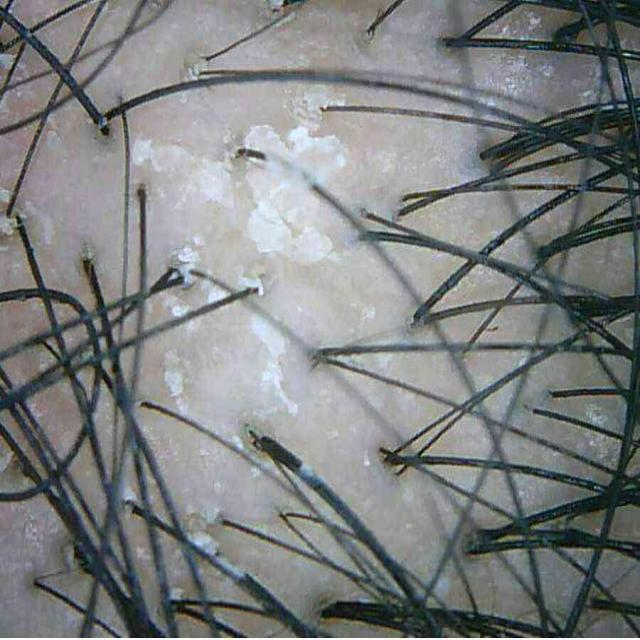d: (246, 164, 334, 264), (245, 125, 348, 183), (251, 315, 298, 416), (132, 138, 196, 174), (199, 159, 234, 207), (164, 350, 184, 398), (189, 531, 219, 555), (201, 280, 228, 302), (239, 277, 264, 296), (0, 213, 18, 236), (176, 246, 199, 264), (0, 215, 18, 236), (122, 486, 138, 505), (171, 305, 189, 317), (0, 54, 14, 68), (170, 587, 184, 601), (0, 189, 10, 207), (231, 436, 244, 449), (194, 237, 204, 245)
ds: (0, 497, 81, 636), (292, 90, 331, 132)
o: (465, 49, 558, 111), (497, 8, 545, 40), (583, 430, 622, 468), (570, 58, 601, 104), (609, 55, 626, 98), (585, 402, 609, 431)
